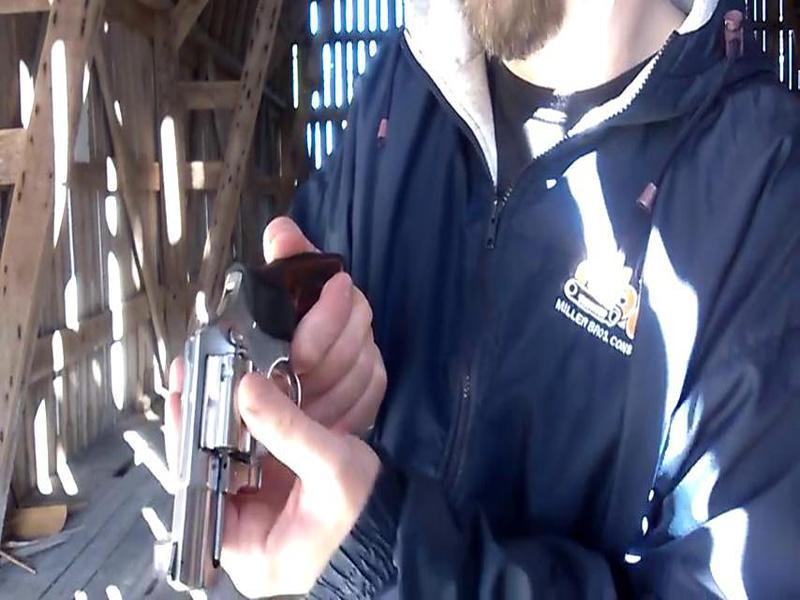Revolver: (132, 238, 417, 578)
